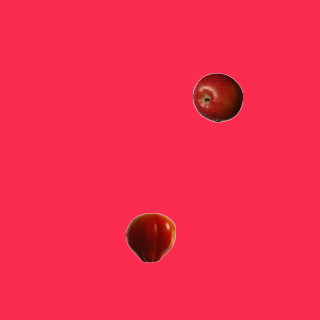Apple Braeburn: (192, 72, 242, 122)
Tomato 1: (125, 212, 175, 262)
